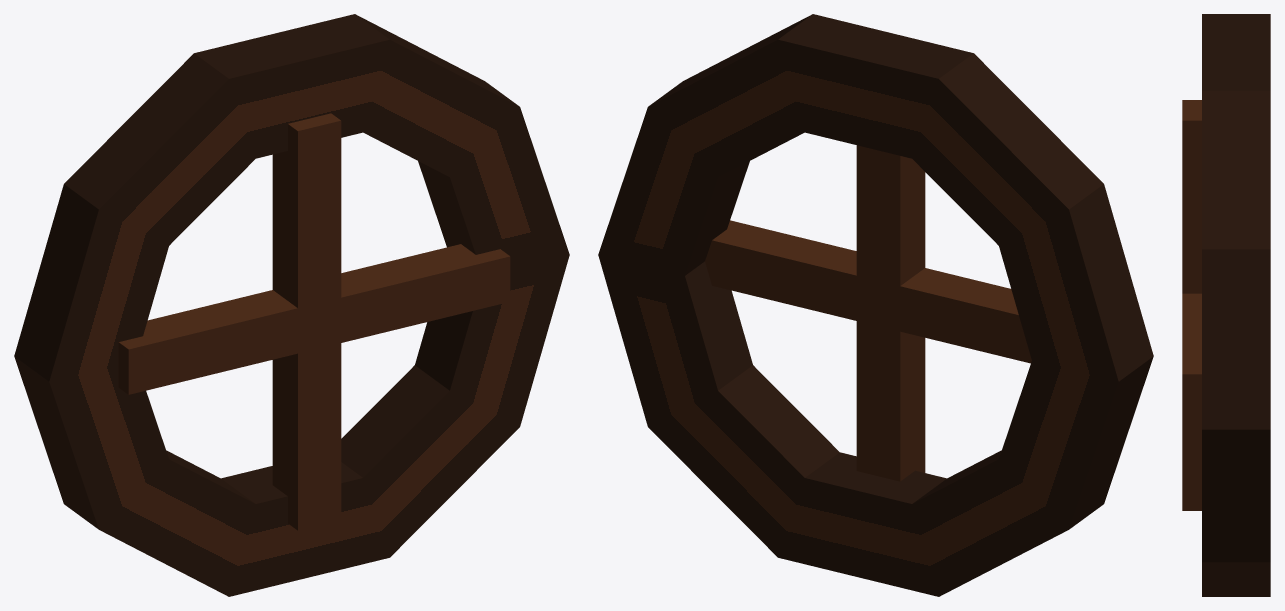
The model's file is ValveWheel.obj.
3 views of the same model, side by side, from view 1: azimuth 30°, elevation 25°; view 2: azimuth 150°, elevation 25°; view 3: azimuth 270°, elevation 25° (orthographic). The views are drawn at different scales.
Parts seen in each view (by area): view 1: ValveWheel; view 2: ValveWheel; view 3: ValveWheel.
Boxes of the visible parts, left/top/right/bottom form: ValveWheel: left=14, top=14, right=569, bottom=596; ValveWheel: left=598, top=14, right=1153, bottom=596; ValveWheel: left=1182, top=14, right=1270, bottom=596.
Size of the model in its own units: 0.6 by 0.5706 by 0.09.
1 material, 1 textured.
